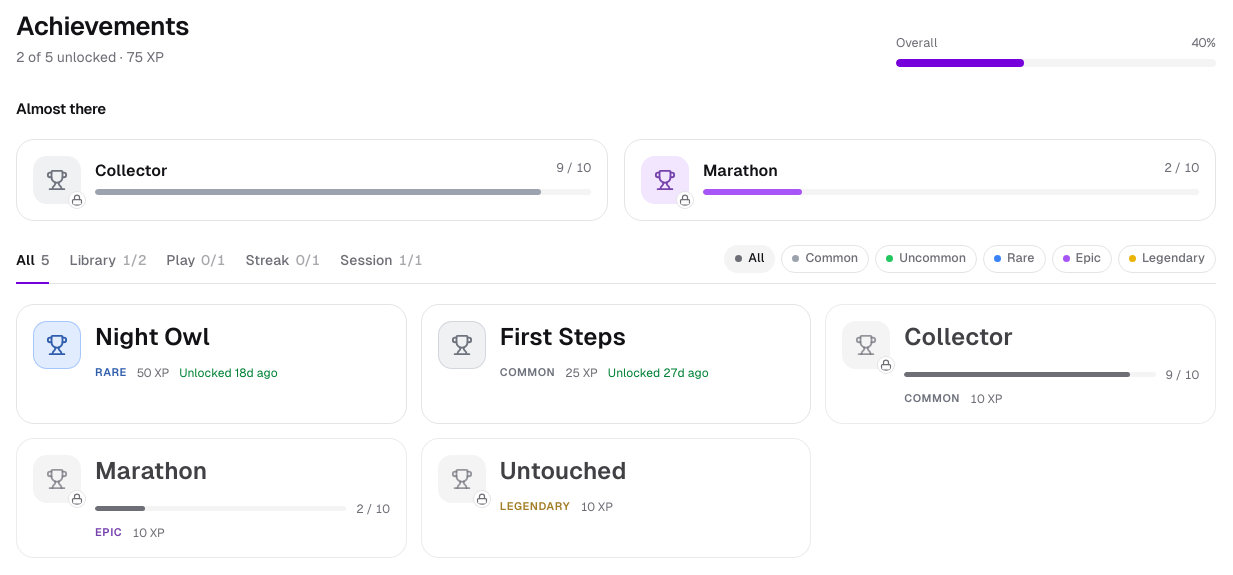
Test: v1 Achievements page › filters by category
The image size is (1233, 575).
Click the tab with test id "ach-tab-session" at (381, 266), box [340,250,423,284]
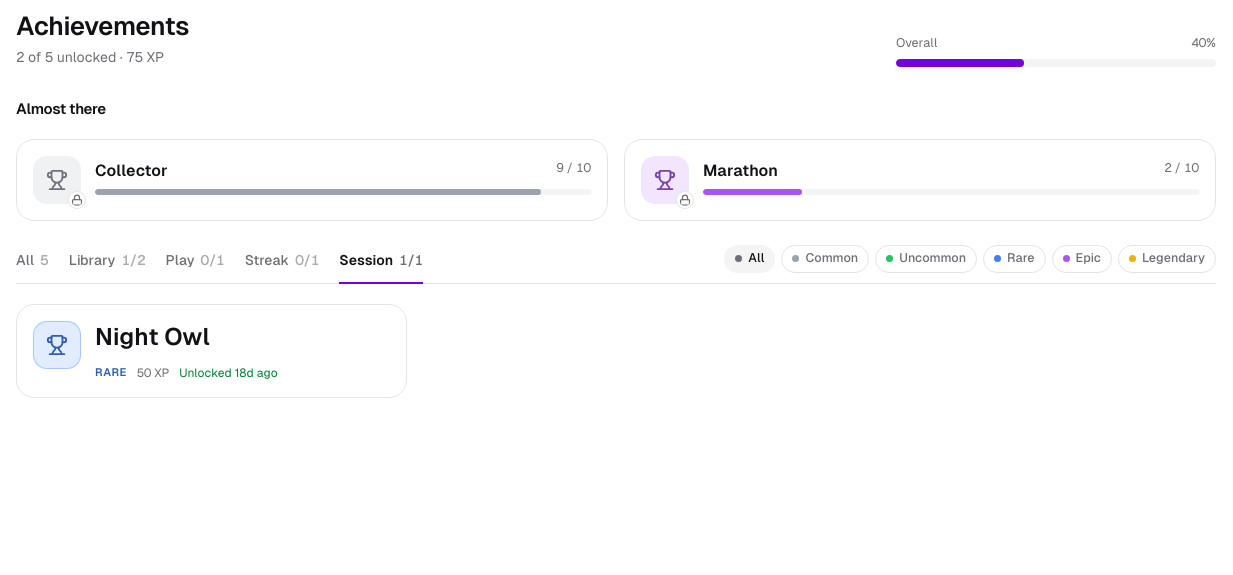
Expected: the element with test id "achievement-newest" is shown, [16,304,407,398]
Expected: the element with test id "achievement-first" is gone
